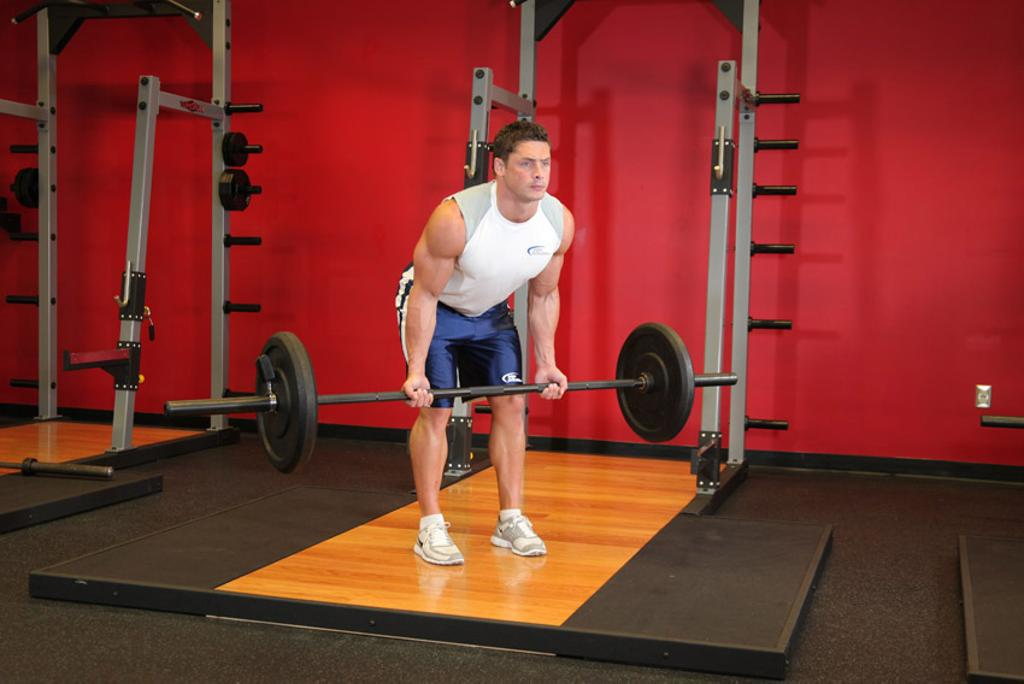face: (508, 143, 550, 199)
